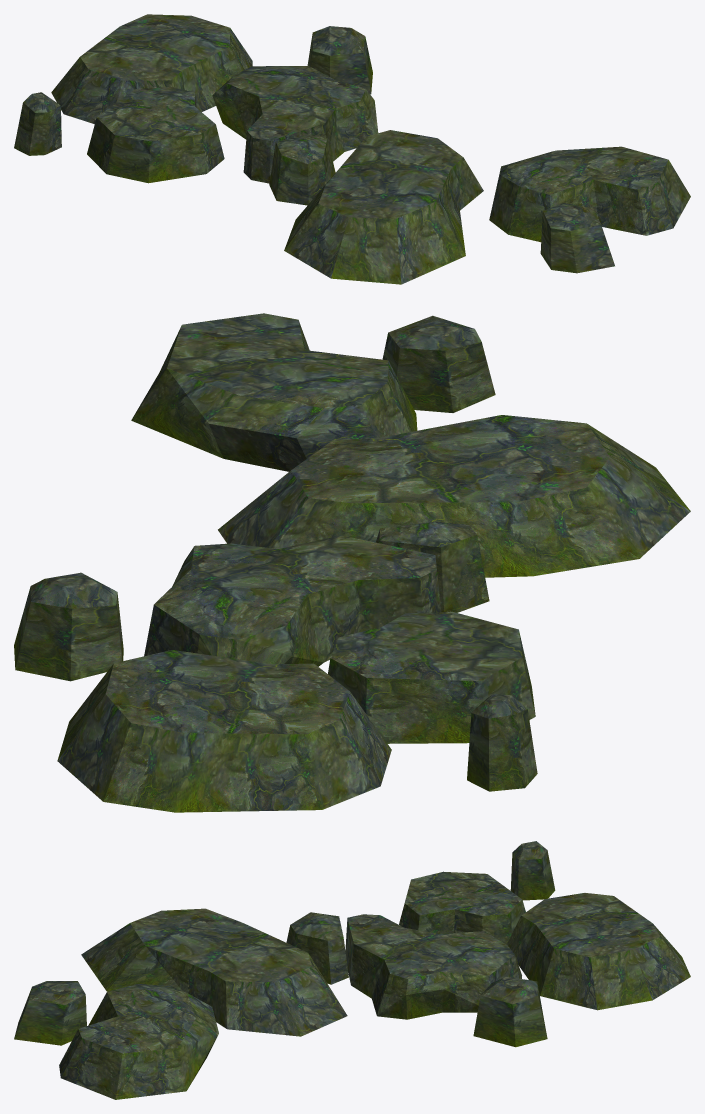
File: 10104_Stone06.FBX
3 views of the same model, one above another, from view 1: azimuth 30°, elevation 25°; view 2: azimuth 150°, elevation 25°; view 3: azimuth 270°, elevation 25° (orthographic). The views are drawn at different scales.
Parts seen in each view (by area): view 1: objDN_A_Stepstone02; view 2: objDN_A_Stepstone02; view 3: objDN_A_Stepstone02.
Boxes of the visible parts, box(x1,y1,x2,y2) form: objDN_A_Stepstone02: box(14, 14, 690, 284); objDN_A_Stepstone02: box(14, 313, 690, 812); objDN_A_Stepstone02: box(14, 841, 690, 1099).
Bounding box in the file's own units: 685 × 73.72 × 905.
